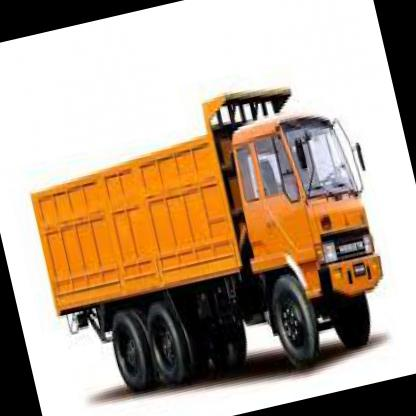truck: (220, 100, 401, 375)
